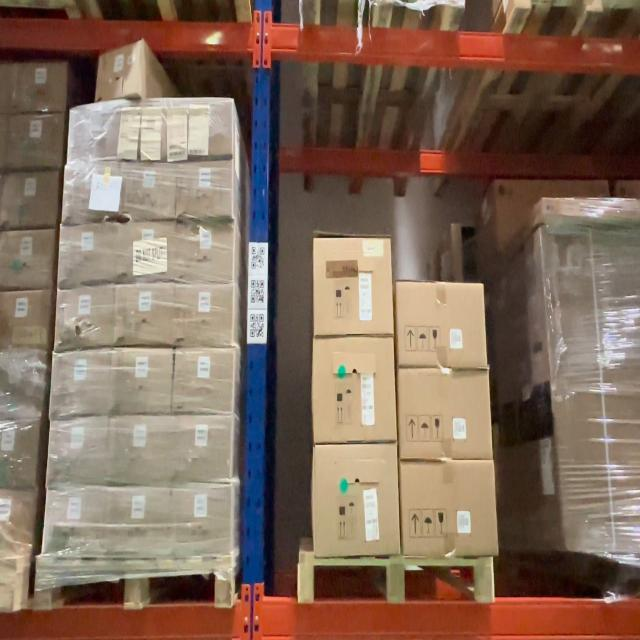box: (317, 446, 401, 554), (403, 462, 497, 554), (316, 341, 398, 442), (399, 371, 490, 458), (316, 239, 393, 335), (399, 282, 484, 365), (173, 488, 232, 555), (46, 490, 105, 554), (175, 350, 234, 412), (112, 491, 168, 556), (174, 419, 231, 481), (169, 100, 232, 156), (112, 419, 168, 482), (175, 285, 232, 345), (51, 422, 106, 483), (54, 353, 109, 414), (57, 287, 112, 346), (116, 350, 169, 411), (176, 223, 232, 280), (61, 225, 116, 282), (65, 165, 120, 221), (119, 284, 172, 342), (124, 163, 177, 218), (0, 231, 52, 287), (2, 175, 57, 226), (0, 354, 45, 416), (180, 163, 230, 217), (122, 225, 172, 279), (8, 118, 62, 168), (0, 292, 48, 348), (71, 110, 123, 160), (15, 63, 66, 111), (99, 46, 145, 98), (0, 422, 36, 486), (125, 106, 168, 157), (0, 491, 32, 552)
